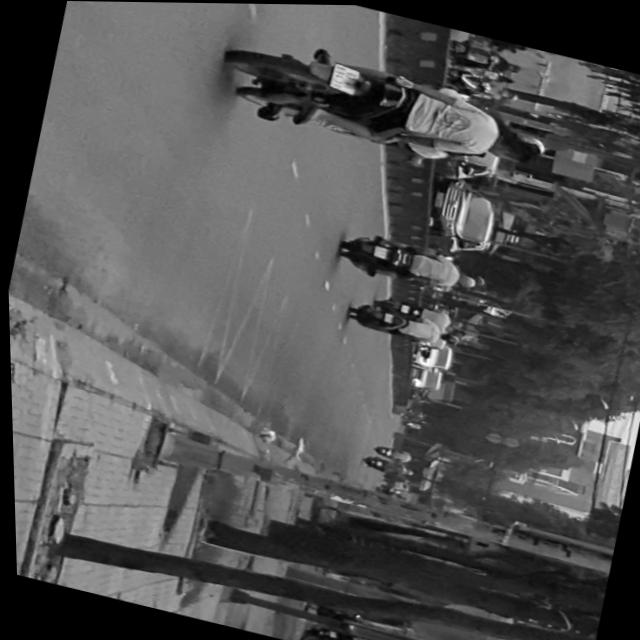licenseplate: (210, 22, 559, 187)
motorcyclist: (488, 129, 542, 165)
nohelmet: (327, 62, 359, 93)
